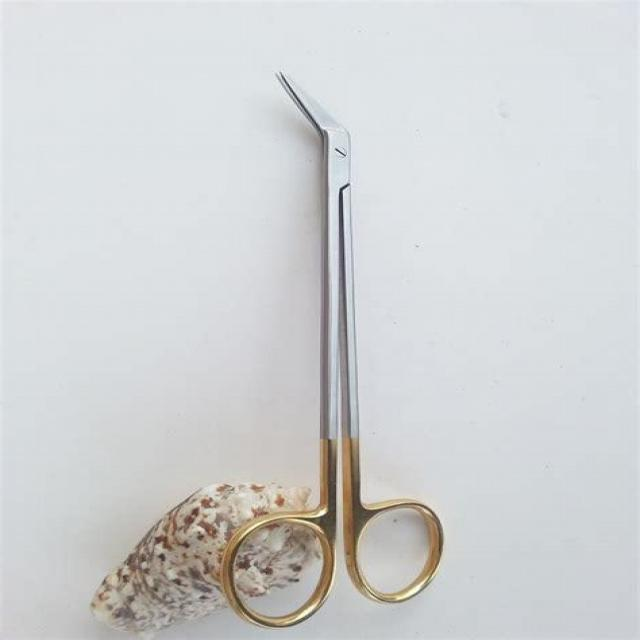Potts: (215, 66, 450, 631)
